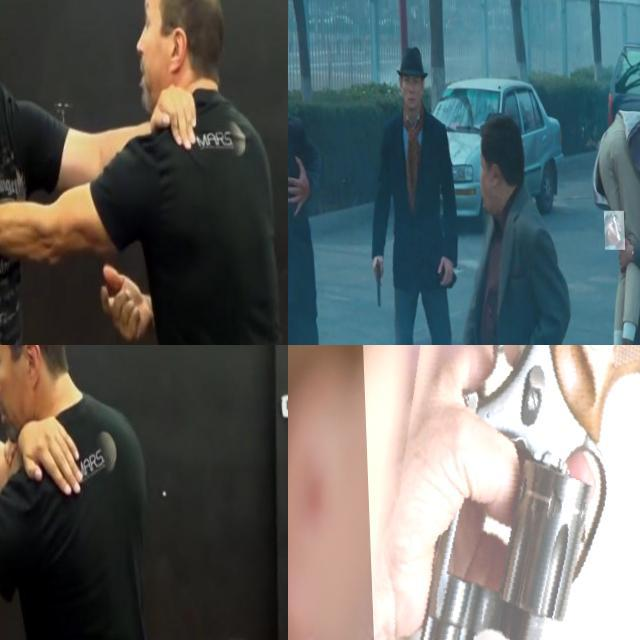gun-knife-thesis - v11 Yolov5 augmented: (358, 345, 640, 640), (602, 210, 623, 248), (368, 253, 380, 308)
